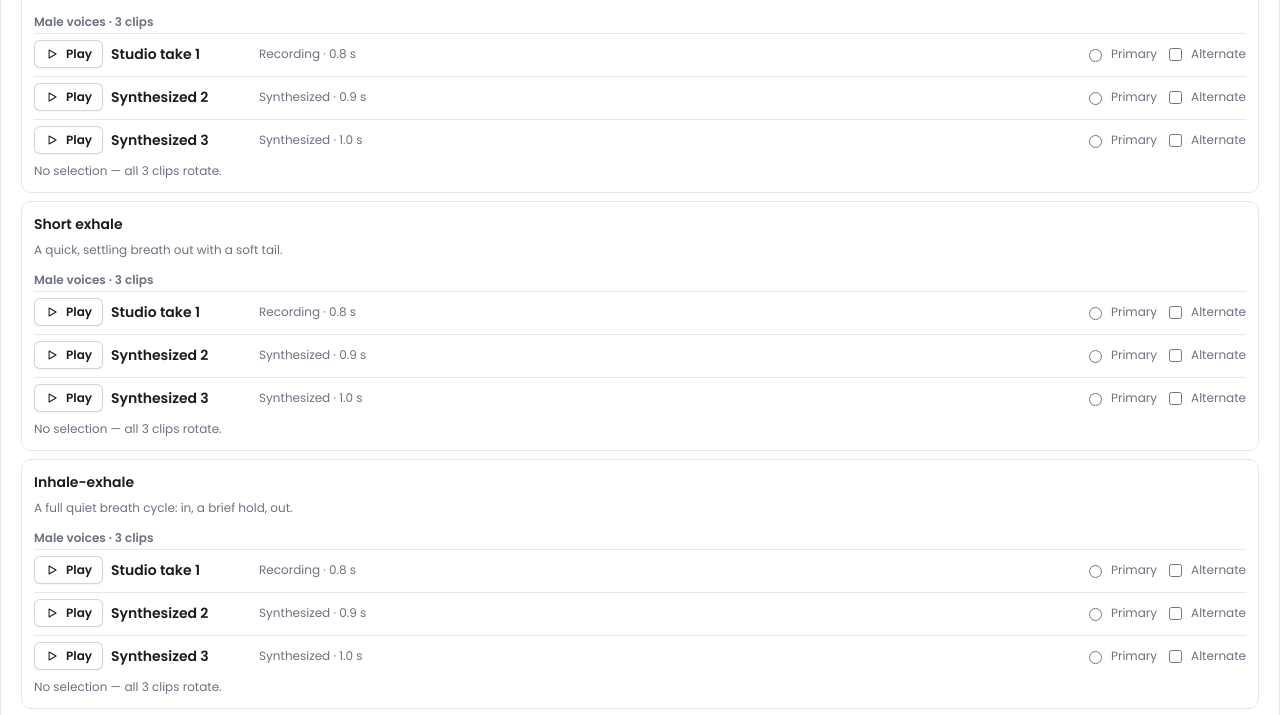
Scenario: FillerAudioLibrary › previews the exact clip with the JWT and reports what is playing
The image size is (1280, 715).
(page scrolled)
Click the button with aria-label "Play Short exhale · Male · Synthesized 2".
click(68, 355)  # box left=34, top=341, right=103, bottom=369
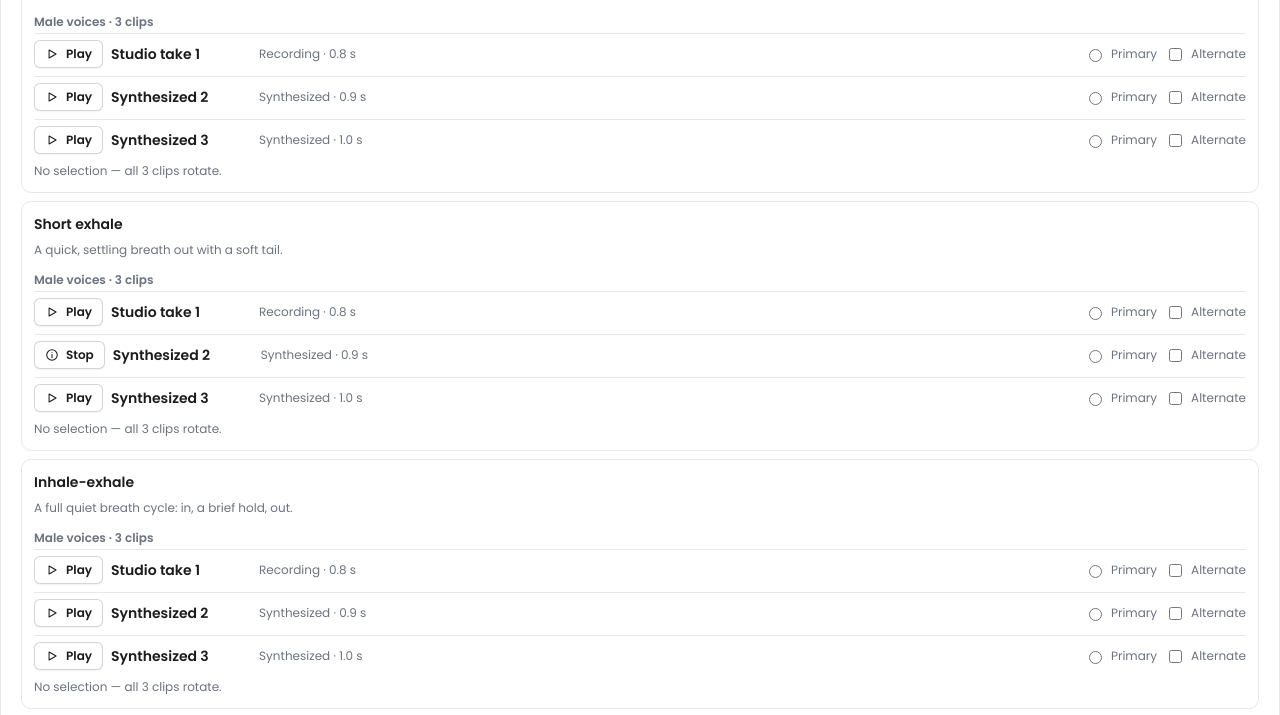
Click the button with aria-label "Stop Short exhale · Male · Synthesized 2".
click(69, 355)  # box left=34, top=341, right=105, bottom=369
(page scrolled)
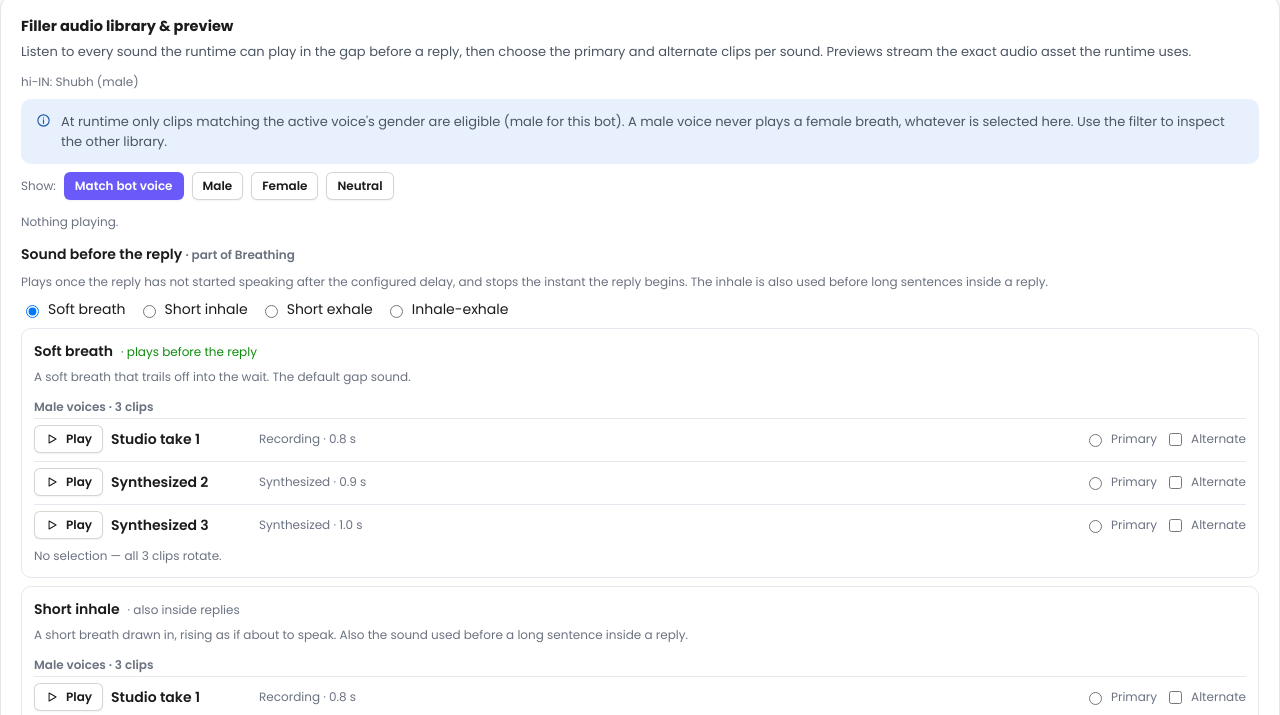
expect the message with test id "now-playing" reads "Nothing playing.": met, box left=21, top=213, right=118, bottom=230
